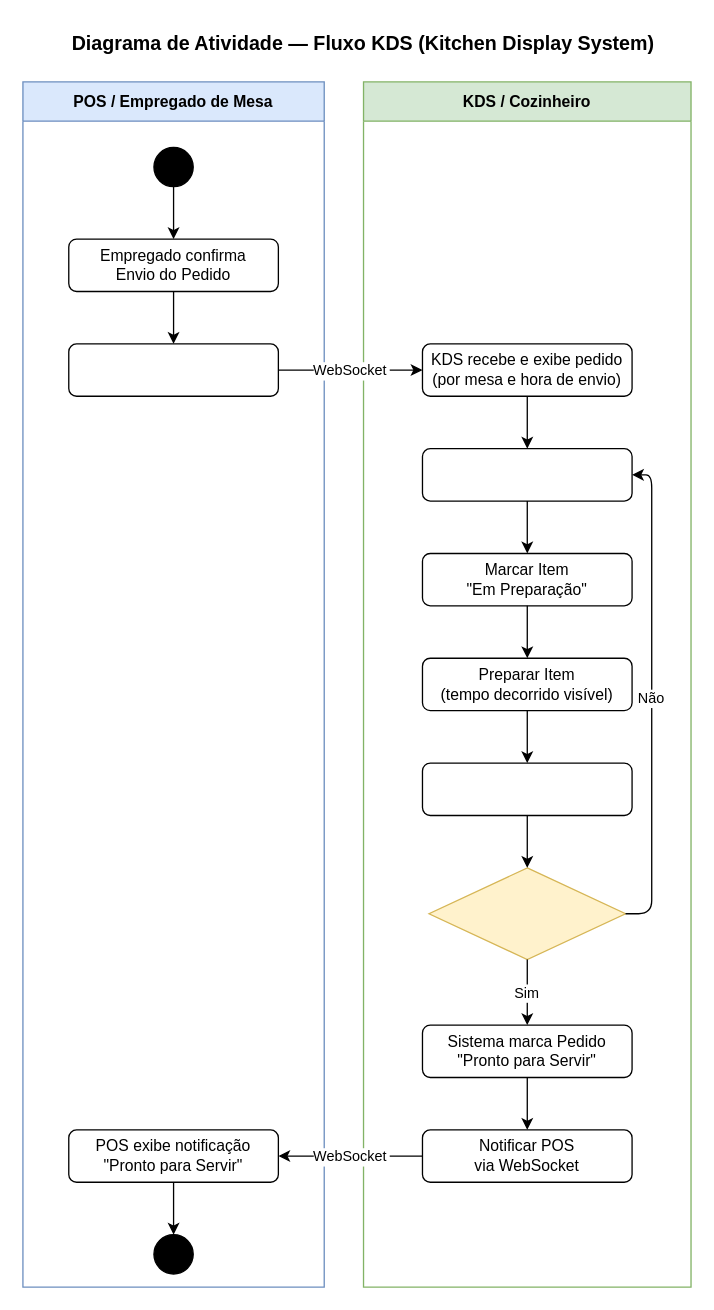
Some shapes in this 714 by 1310 pixel diagram are drawn without their labels. The centre of each missing label's shape, as x and y in pixels:
Cozinheiro seleciona Item: [526,474]
Marcar Item "Pronto": [526,788]
POS envia pedido via WebSocket: [172,369]
Todos os Itens do Pedido Prontos?: [527,913]
